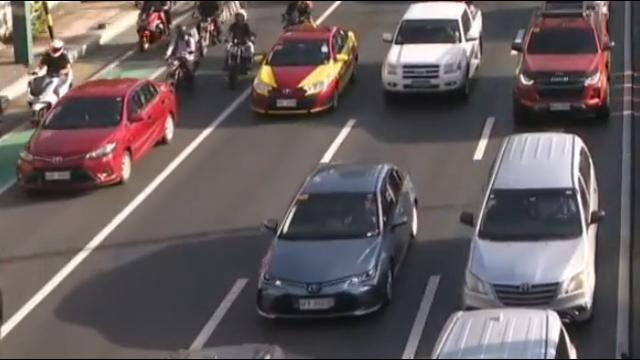car: (459, 133, 601, 328), (252, 164, 418, 319), (13, 81, 178, 193), (513, 11, 612, 121), (254, 30, 351, 119), (428, 309, 585, 360), (162, 342, 321, 358)
motorcycle: (27, 39, 73, 120), (161, 25, 203, 98), (222, 9, 256, 87), (133, 1, 170, 52), (190, 0, 222, 55), (279, 1, 313, 34)
pickup-truck: (377, 2, 487, 102)
